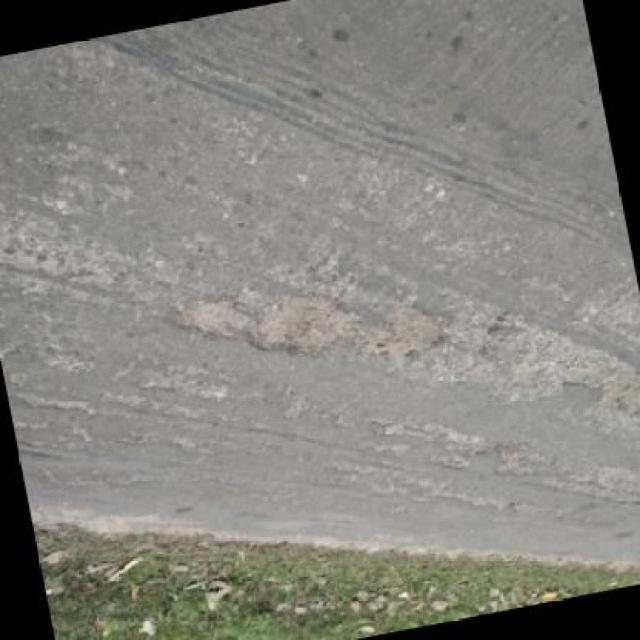pothole: (238, 286, 367, 371), (353, 298, 455, 374), (175, 296, 256, 350), (606, 372, 640, 440)
